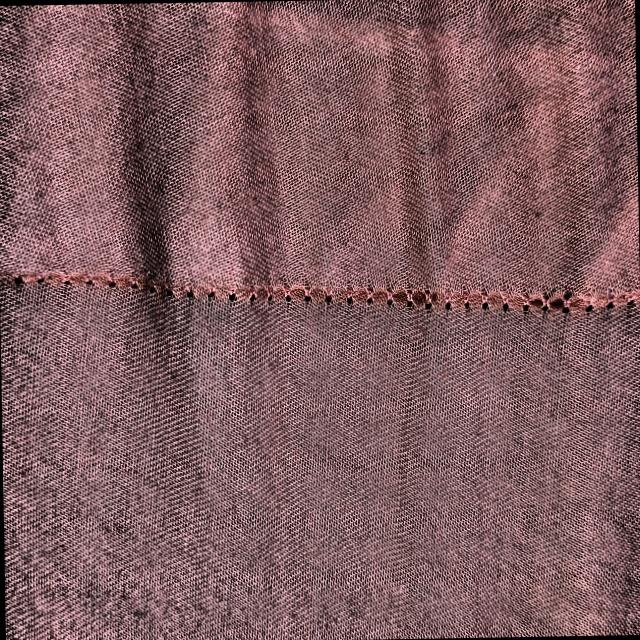seam: (359, 255, 595, 360), (493, 250, 640, 370)
